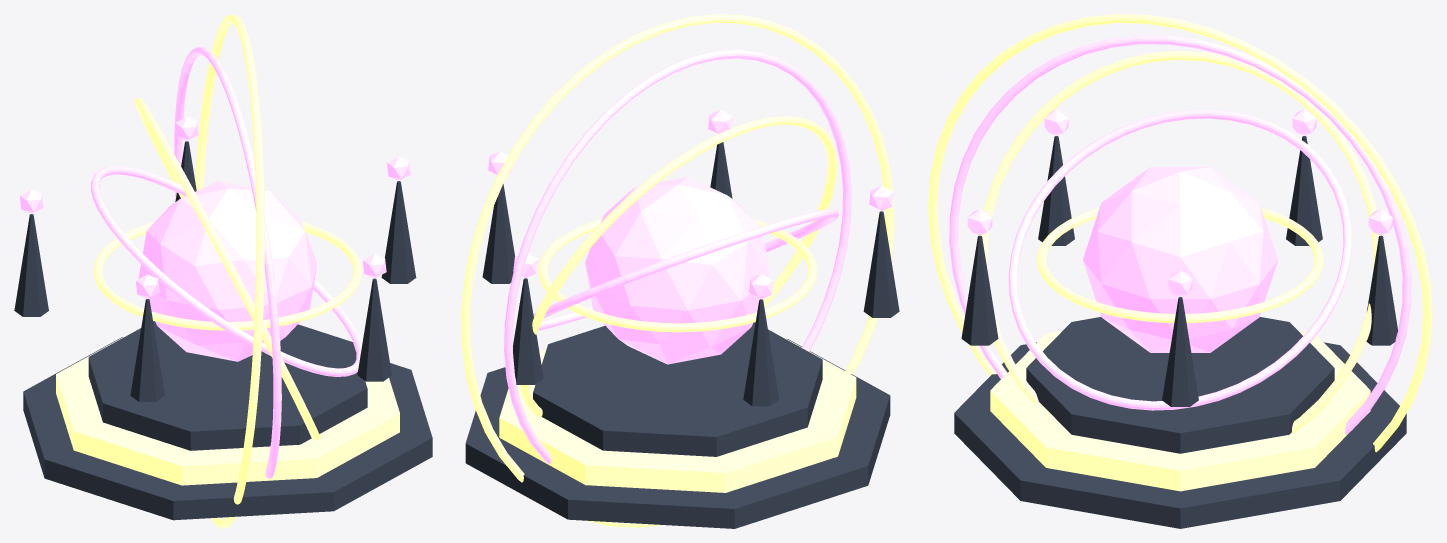
Rendered from gpu-blender-v43.glb.
The picture shows the model from 3 angles, left to right: view 1: azimuth 30°, elevation 25°; view 2: azimuth 150°, elevation 25°; view 3: azimuth 270°, elevation 25°; orthographic projection. The views are drawn at different scales.
Parts seen in each view (by area): view 1: Cylinder.002, Cylinder, SovereignCore_adytum-alchemist-ai-workflow, Cylinder.001, Torus.004, Torus.003, Torus.001, Torus, Torus.002, Cone.004, Cone.002, Cone.003 (+1 smaller); view 2: Cylinder.002, SovereignCore_adytum-alchemist-ai-workflow, Cylinder, Cylinder.001, Torus.004, Torus.003, Torus.002, Torus, Torus.001, Cone.002, Cone.003, Cone (+2 smaller); view 3: SovereignCore_adytum-alchemist-ai-workflow, Cylinder.002, Cylinder, Cylinder.001, Torus.004, Torus.001, Torus.003, Torus.002, Torus, Cone.004, Cone, Cone.001 (+2 smaller).
Part boxes in pixels (x1,y1,x2,y2): Cylinder.002: (88,321,367,450); Cylinder: (23,337,432,520); SovereignCore_adytum-alchemist-ai-workflow: (138,181,317,361); Cylinder.001: (56,328,399,485); Torus.004: (195,14,264,528); Torus.003: (174,46,281,478); Torus.001: (91,166,362,376); Torus: (93,221,362,330); Torus.002: (134,97,320,440); Cone.004: (357,278,391,381); Cone.002: (14,214,48,316); Cone.003: (130,299,164,401); Cylinder.002: (533,322,822,456); SovereignCore_adytum-alchemist-ai-workflow: (585,177,770,364); Cylinder: (465,338,890,528); Cylinder.001: (499,330,856,492); Torus.004: (461,14,894,527); Torus.003: (504,49,851,463); Torus.002: (519,116,836,417); Torus: (538,219,817,332); Torus.001: (533,208,838,330); Cone.002: (743,299,778,406); Cone.003: (863,211,899,317); Cone: (482,184,514,283); SovereignCore_adytum-alchemist-ai-workflow: (1083,167,1277,352); Cylinder.002: (1026,317,1334,453); Cylinder: (954,342,1406,528); Cylinder.001: (990,330,1370,491); Torus.004: (928,14,1432,452); Torus.001: (1008,109,1352,410); Torus.003: (949,35,1411,434); Torus.002: (980,50,1380,433); Torus: (1037,207,1323,322); Cone.004: (961,235,998,345); Cone: (1162,297,1198,406); Cone.001: (1366,235,1397,345).
Size of the model in its own units: 4.41 by 5.33 by 4.9.
